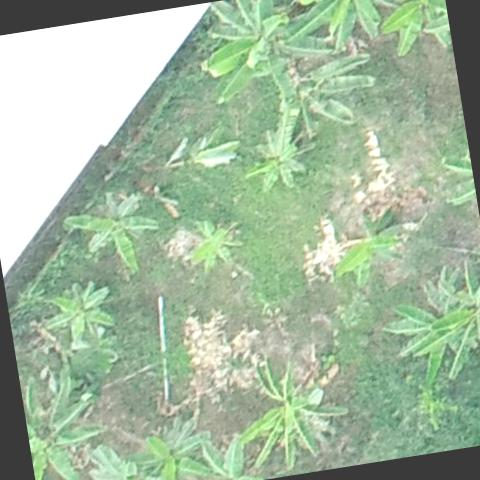Banana-plant: (223, 343, 358, 478)
